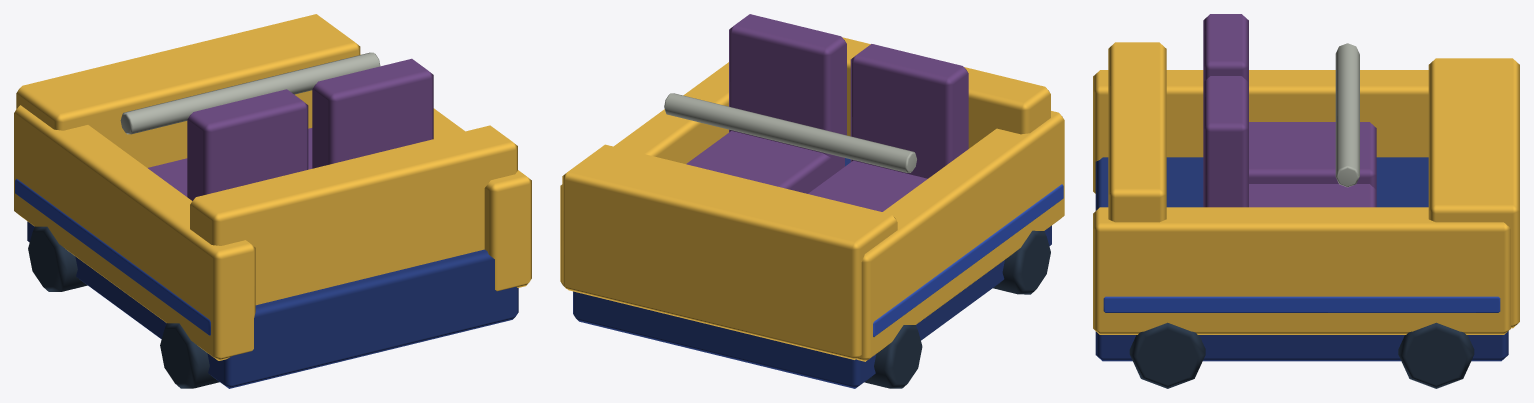
File: coaster_car.glb
3 views of the same model, side by side, from view 1: azimuth 30°, elevation 25°; view 2: azimuth 150°, elevation 25°; view 3: azimuth 270°, elevation 25° (orthographic). The views are drawn at different scales.
Parts seen in each view (by area): view 1: coaster_car; view 2: coaster_car; view 3: coaster_car.
Part boxes in pixels (x1,y1,x2,y2): coaster_car: (14, 14, 531, 388); coaster_car: (560, 14, 1064, 388); coaster_car: (1093, 14, 1519, 388).
Bounding box in the file's own units: 1.52 × 1.05 × 1.69.
